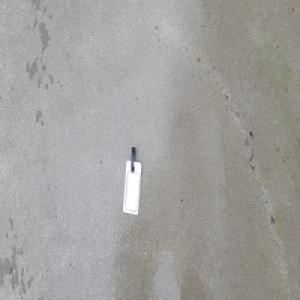LuggageTag: (121, 145, 141, 216)
